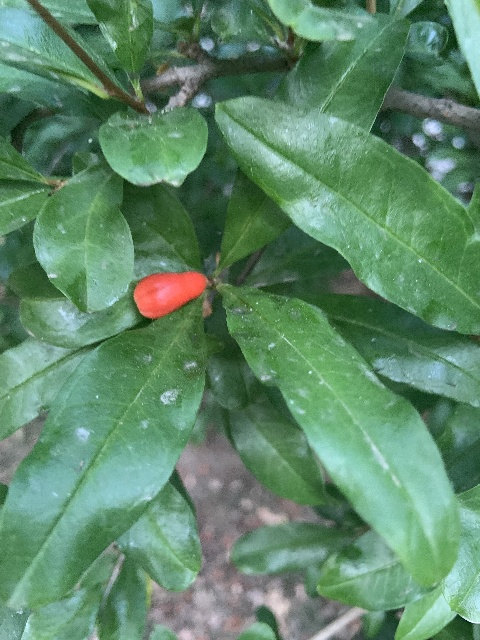bud: (133, 270, 207, 319)
